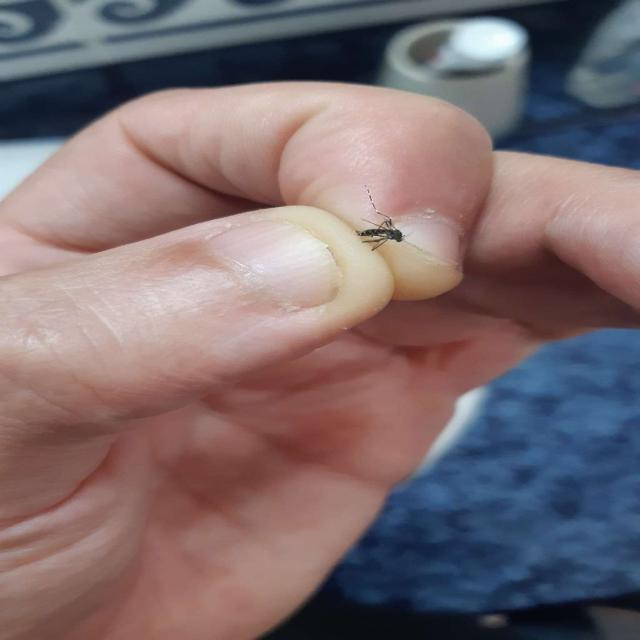albopictus: (328, 187, 438, 260)
